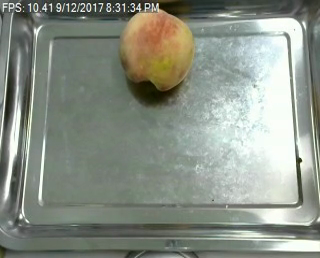Peach: (119, 7, 194, 90)
